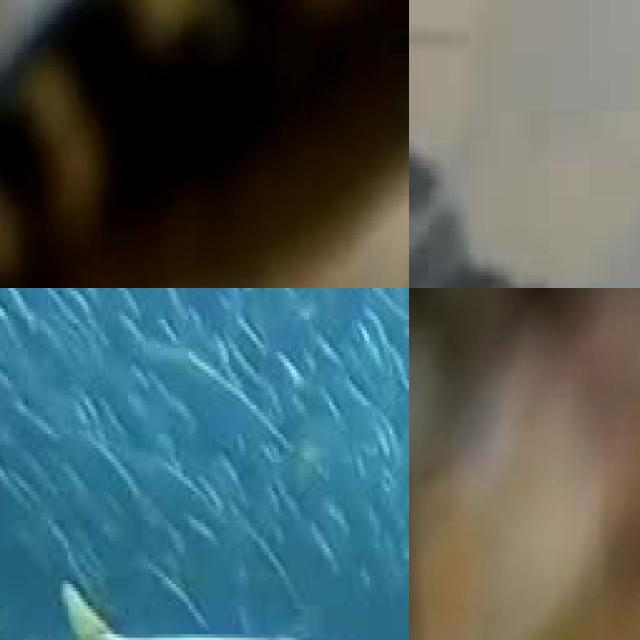fish: (0, 0, 409, 288), (18, 541, 409, 640)
